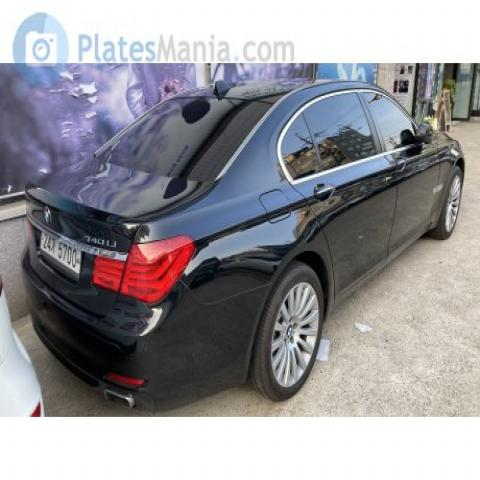LP: (33, 219, 89, 284)
